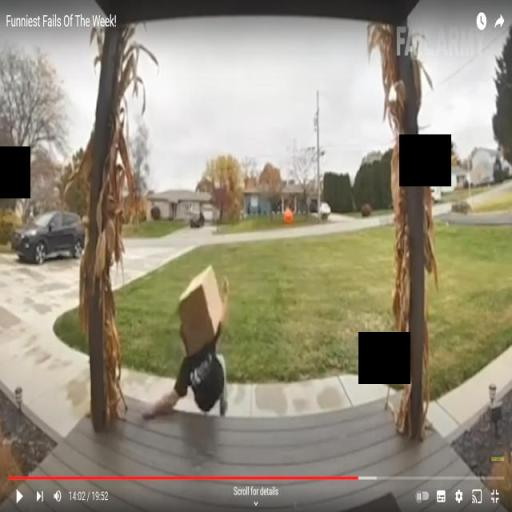Fall: (139, 273, 231, 426)
